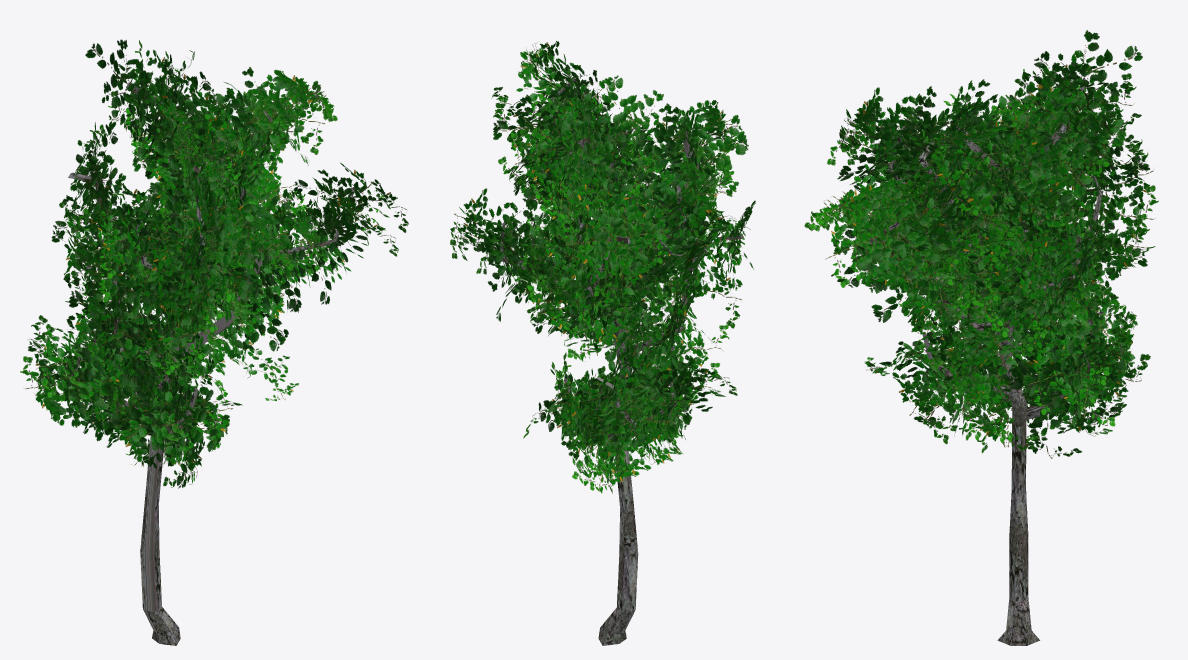
Rendered from tree.glb.
The picture shows the model from 3 angles, left to right: view 1: azimuth 30°, elevation 25°; view 2: azimuth 150°, elevation 25°; view 3: azimuth 270°, elevation 25°; orthographic projection. The views are drawn at different scales.
Visible parts, largest first — view 1: my-image (×76), Cube; view 2: my-image (×72), Cube; view 3: my-image (×94), Cube.
Boxes of the visible parts, x1,y1,x2,y2 form: my-image (×76): [20, 39, 408, 488]; Cube: [68, 82, 354, 645]; my-image (×72): [450, 41, 755, 490]; Cube: [500, 78, 743, 645]; my-image (×94): [804, 30, 1158, 458]; Cube: [865, 77, 1103, 645].
Bounding box in the file's own units: 3.83 × 7.41 × 4.06.
Materials: 2 (2 with a texture image).
